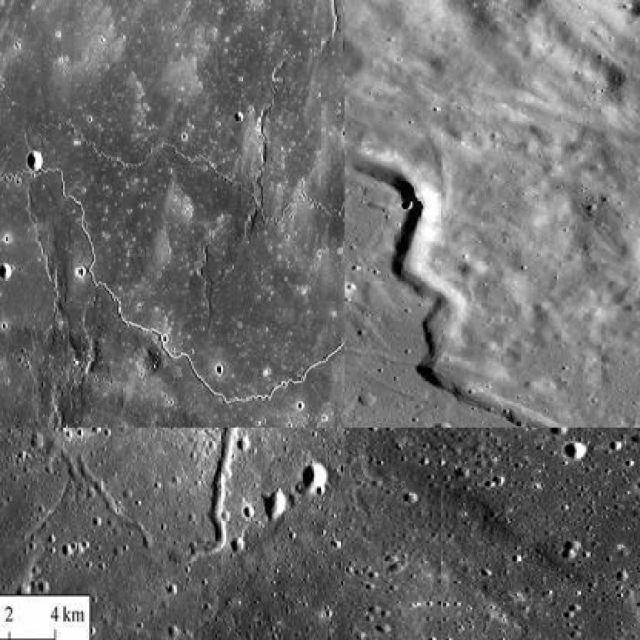rille: (0, 166, 343, 426), (344, 149, 638, 426), (0, 63, 343, 228), (77, 428, 343, 563)
